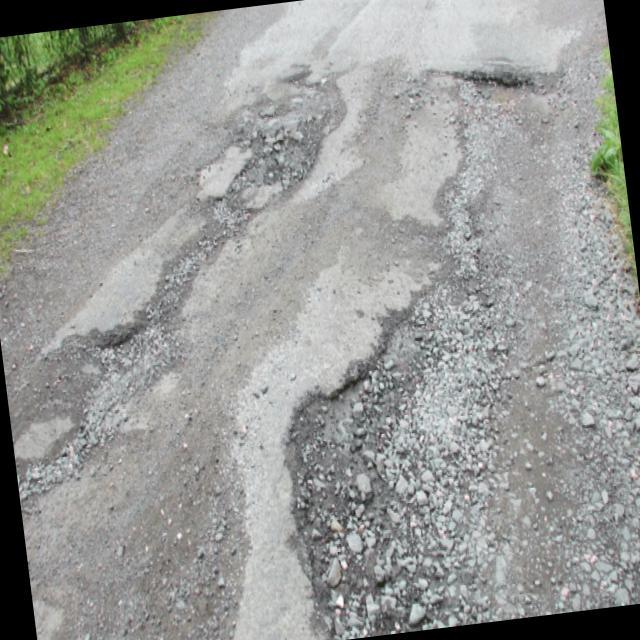Pothole: (222, 42, 640, 640), (0, 58, 373, 487)
